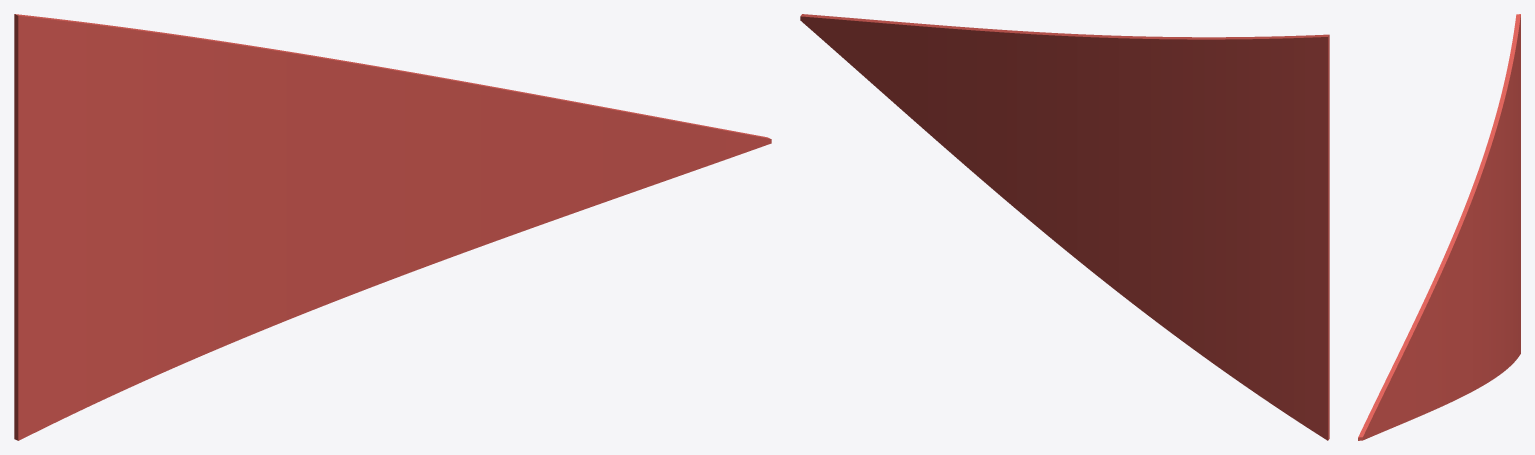
Rendered from Flag001.glb.
The picture shows the model from 3 angles, left to right: view 1: azimuth 30°, elevation 25°; view 2: azimuth 150°, elevation 25°; view 3: azimuth 270°, elevation 25°; orthographic projection. The views are drawn at different scales.
Visible parts, largest first — view 1: Plane.002; view 2: Plane.002; view 3: Plane.002.
Boxes of the visible parts, <box> form: Plane.002: <box>14,14,771,440</box>; Plane.002: <box>800,14,1329,440</box>; Plane.002: <box>1358,14,1520,440</box>.
Size of the model in its own units: 0.2722 by 0.1688 by 0.0734.
